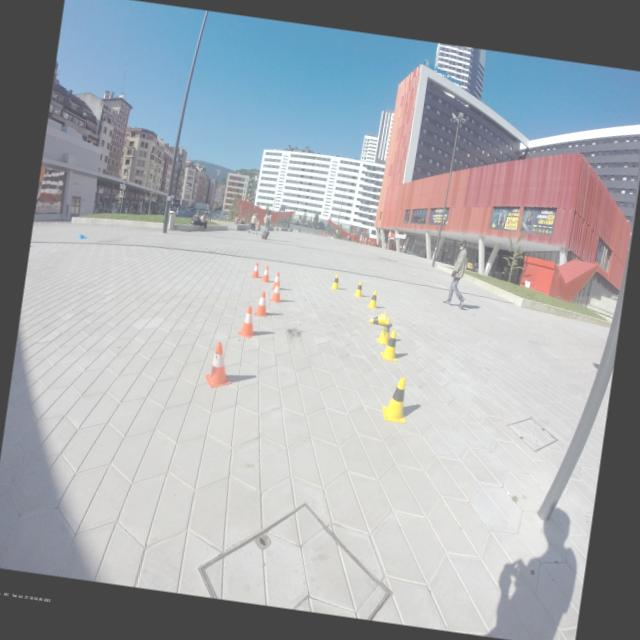blue_cone: (78, 232, 88, 240)
orange_cone: (203, 341, 237, 390), (237, 304, 260, 338), (253, 290, 270, 318), (269, 280, 284, 304), (270, 271, 284, 290), (260, 265, 272, 283), (250, 262, 262, 278)
yellow_cone: (381, 374, 413, 424), (379, 328, 402, 362), (375, 317, 393, 345), (368, 309, 389, 327), (367, 290, 380, 310), (330, 273, 342, 291), (353, 280, 365, 298)
